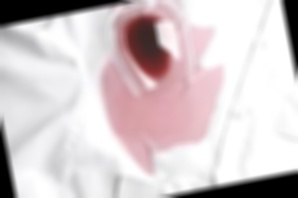wine: (106, 36, 237, 171), (97, 82, 217, 158), (190, 18, 221, 73)
